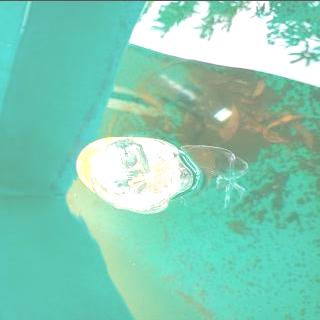bottle: (74, 134, 196, 214)
